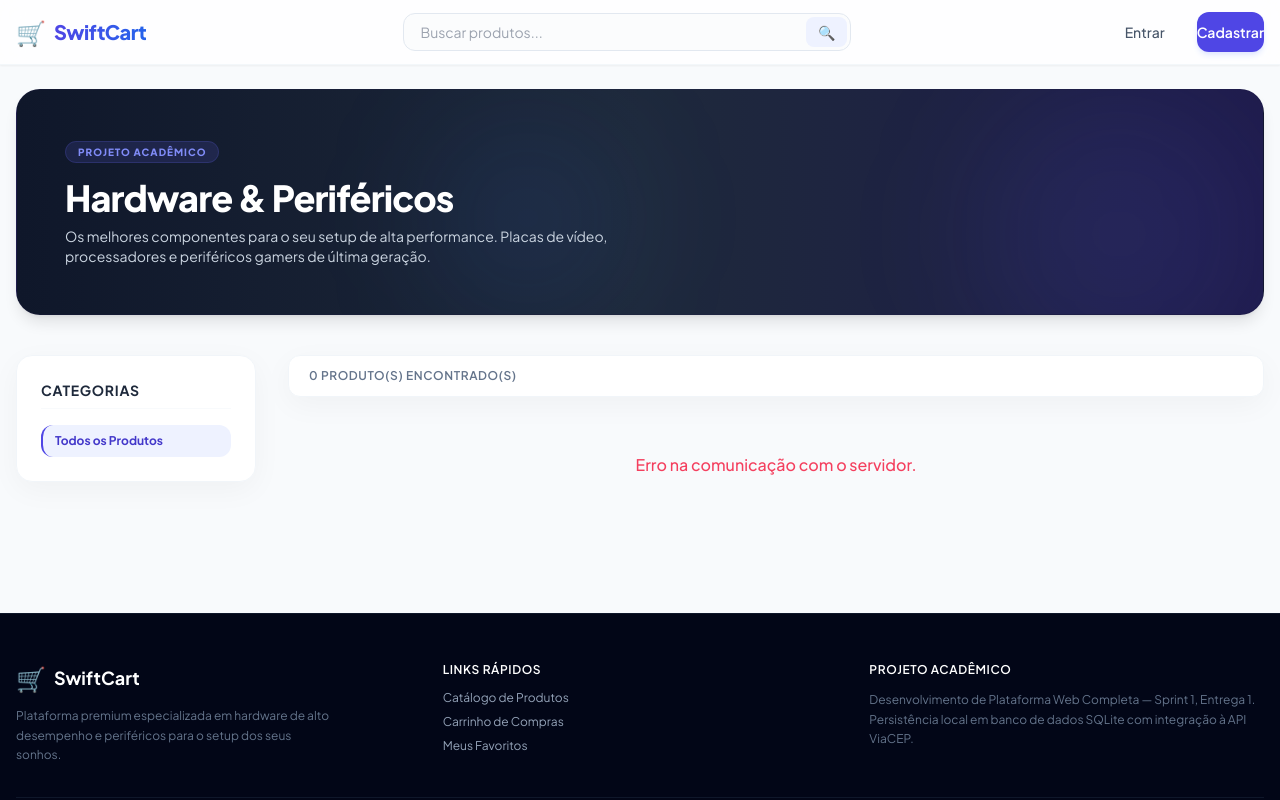
Test: UC08 — Catálogo de Produtos › deve buscar produtos por nome
The width and height of the screenshot is (1280, 800).
Type "RTX" into the field named "q". click: {"x": 628, "y": 32}
box: [404,13,852,51]
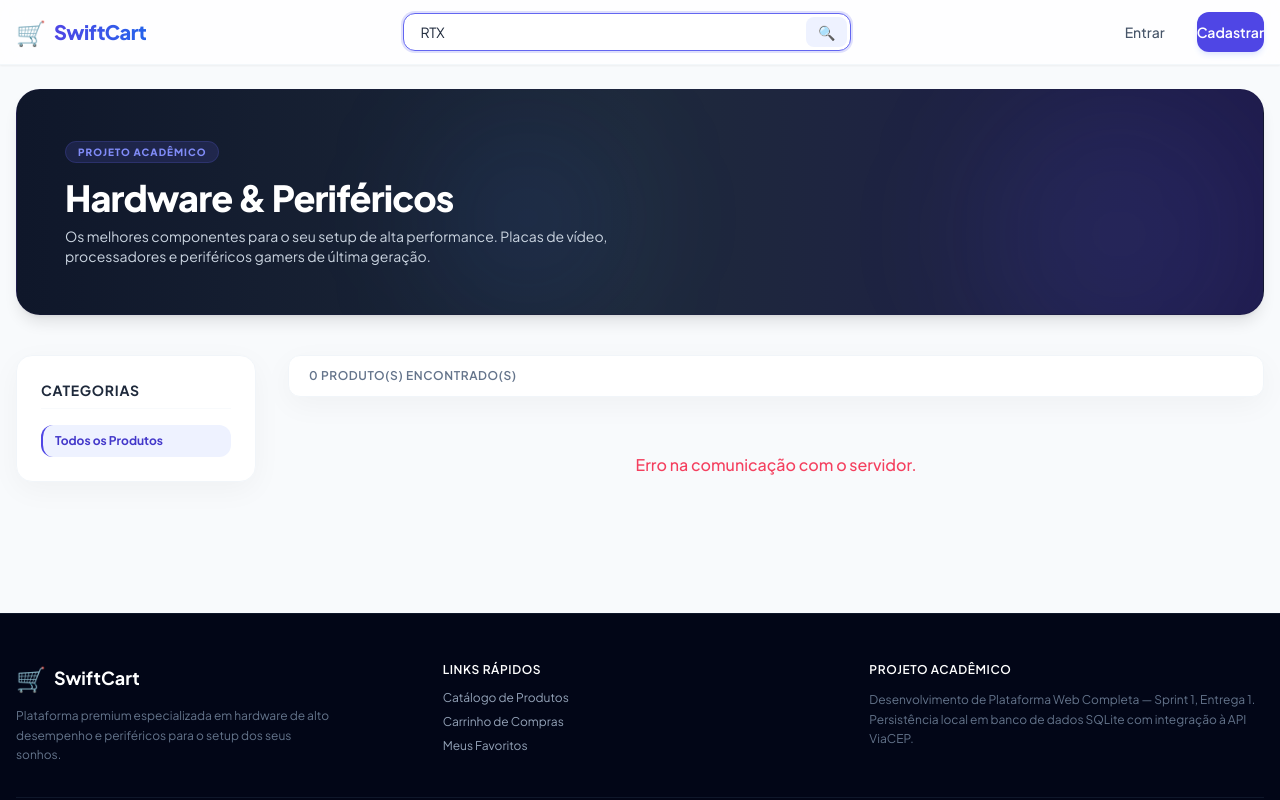
Click the submit button. click: {"x": 827, "y": 32}
box: [806,17,848,47]
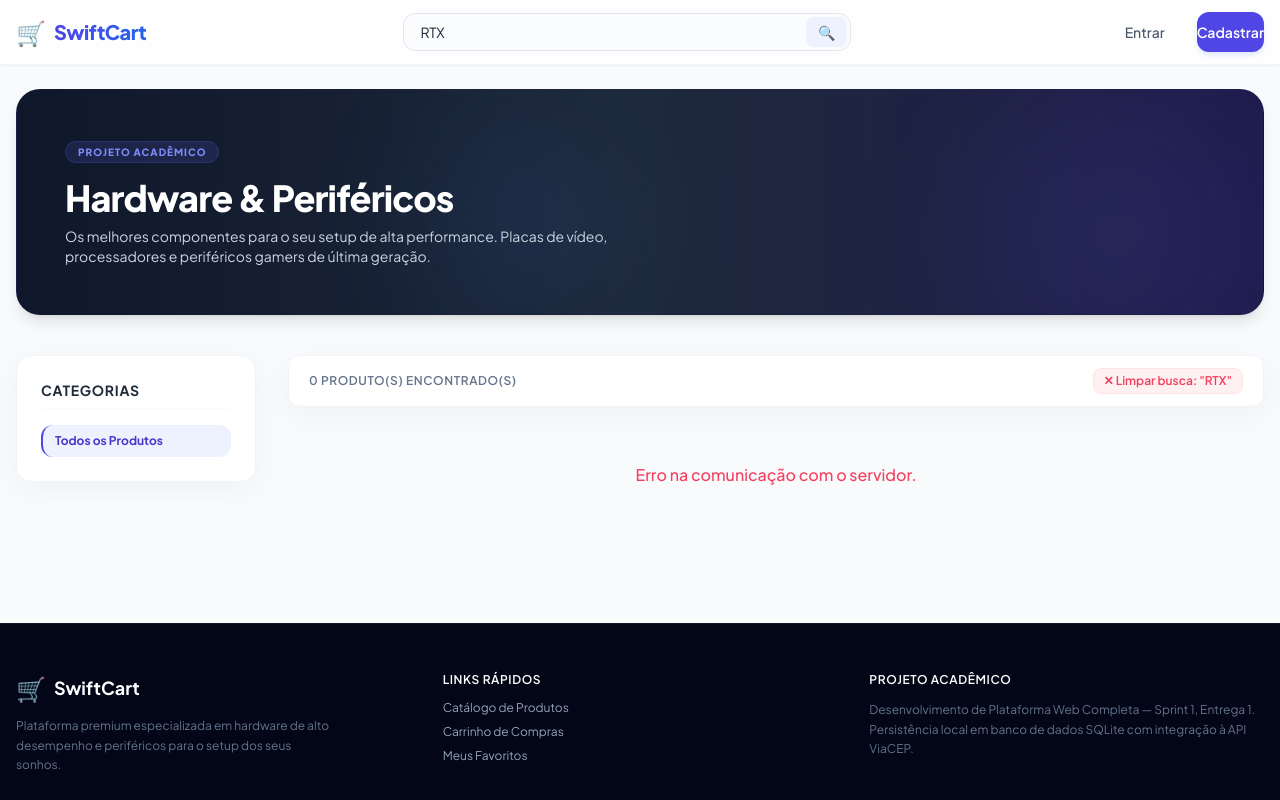
Expected: the button "✕ Limpar busca: \"RTX\"" is shown, [1092,368,1243,394]
